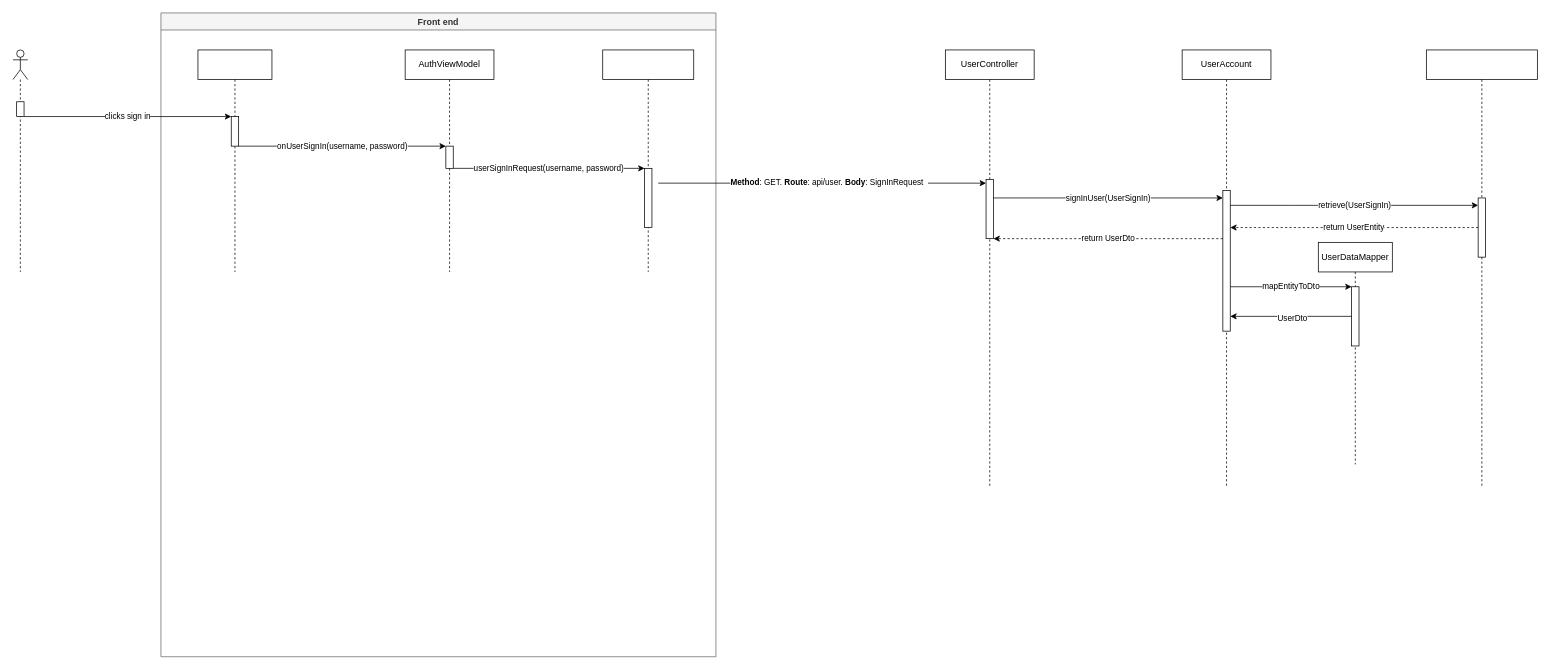
Some shapes in this 1550 by 670 pixel diagram are drawn without their labels. The box of each missing label's shape, as (x1, y1, x2, y2) in pixels:
AuthView: (197, 49, 272, 272)
NetworkingService: (602, 49, 694, 272)
UserAccountDBAccess: (1426, 49, 1537, 487)
